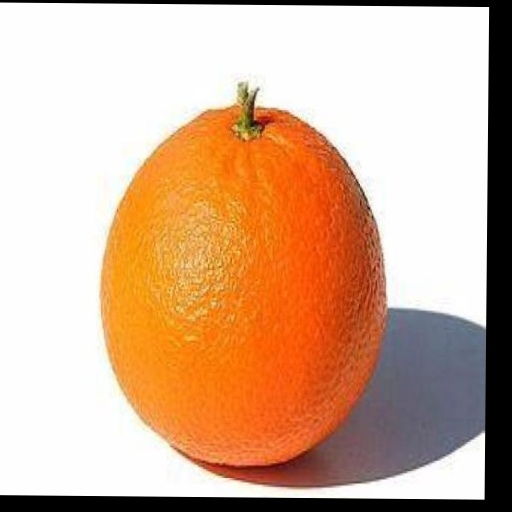fruit: (101, 85, 386, 466)
